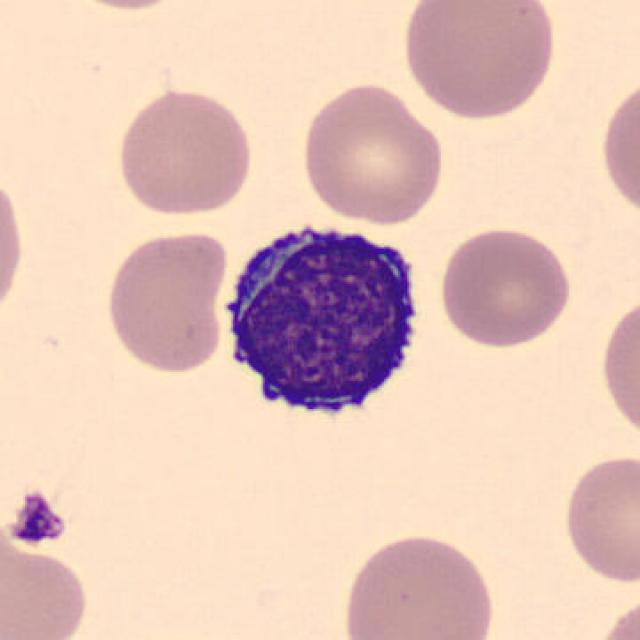lymphocyte: (227, 220, 417, 411)
platelets: (9, 491, 67, 546)
rbc: (301, 89, 431, 217), (402, 0, 546, 113), (110, 236, 230, 370), (122, 97, 250, 211), (443, 233, 564, 345), (345, 545, 483, 640), (0, 534, 84, 640), (570, 463, 640, 584), (603, 307, 640, 431), (609, 92, 640, 218), (2, 191, 21, 311), (607, 600, 640, 640), (94, 2, 162, 11)
